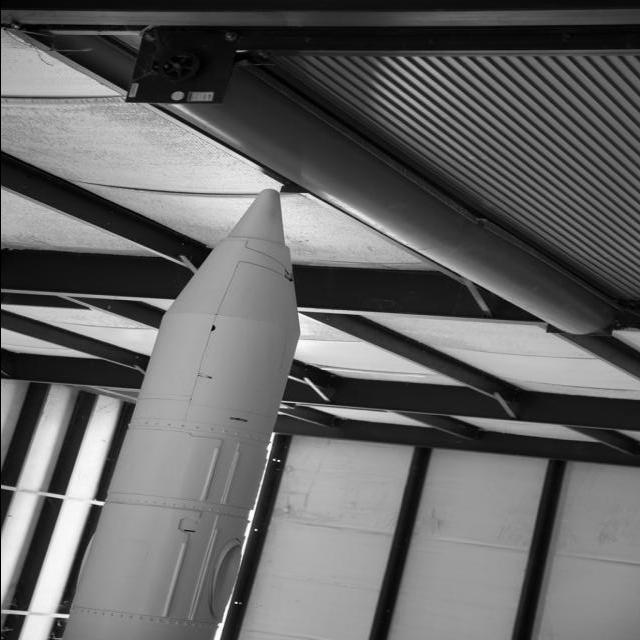missile: (72, 177, 320, 640)
